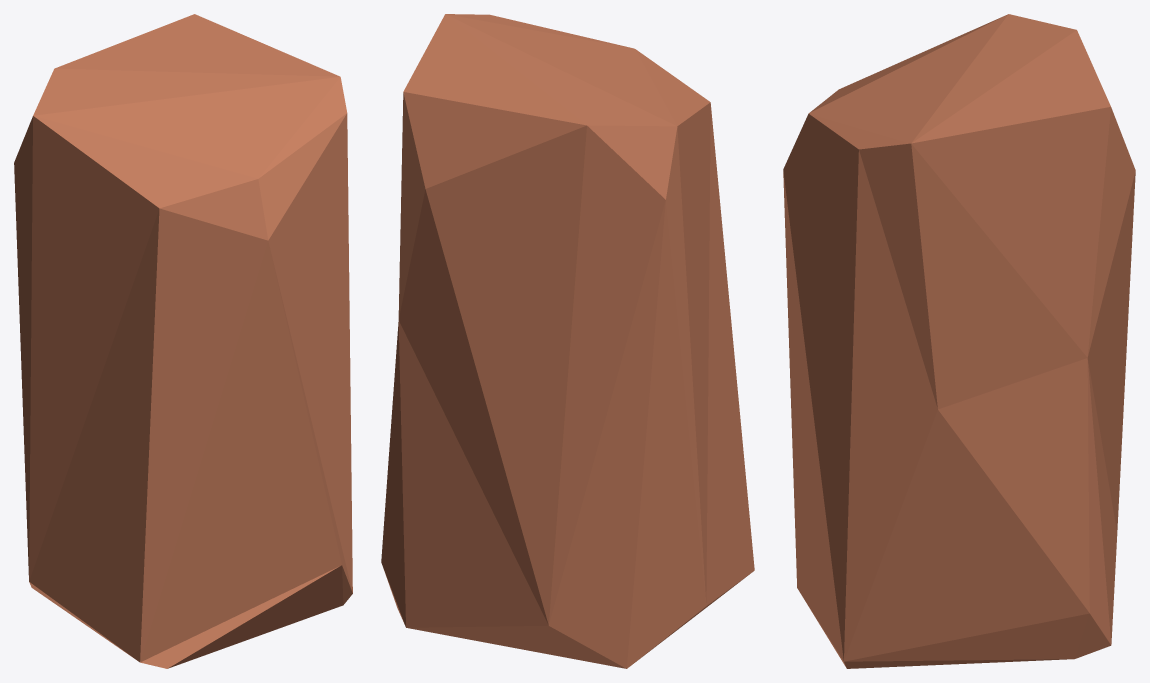
Rendered from west_rock05.FBX.
3 renders of one model, left to right at view 1: azimuth 30°, elevation 25°; view 2: azimuth 150°, elevation 25°; view 3: azimuth 270°, elevation 25°, orthographic. The views are drawn at different scales.
Parts seen in each view (by area): view 1: west_rock05; view 2: west_rock05; view 3: west_rock05.
Boxes of the visible parts, x1,y1,x2,y2 form: west_rock05: [14, 14, 352, 668]; west_rock05: [381, 14, 754, 668]; west_rock05: [783, 14, 1135, 668].
Bounding box in the file's own units: 1487 × 2615 × 1514.
